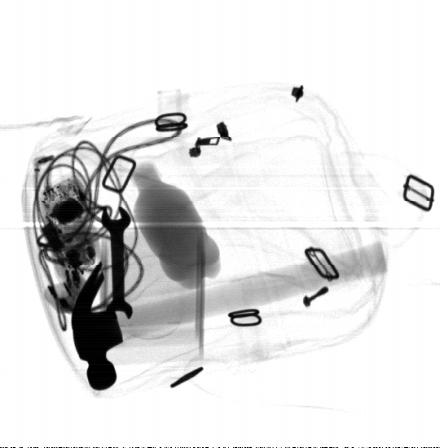Hammer: (71, 241, 388, 390)
Wrench: (101, 206, 132, 322)
